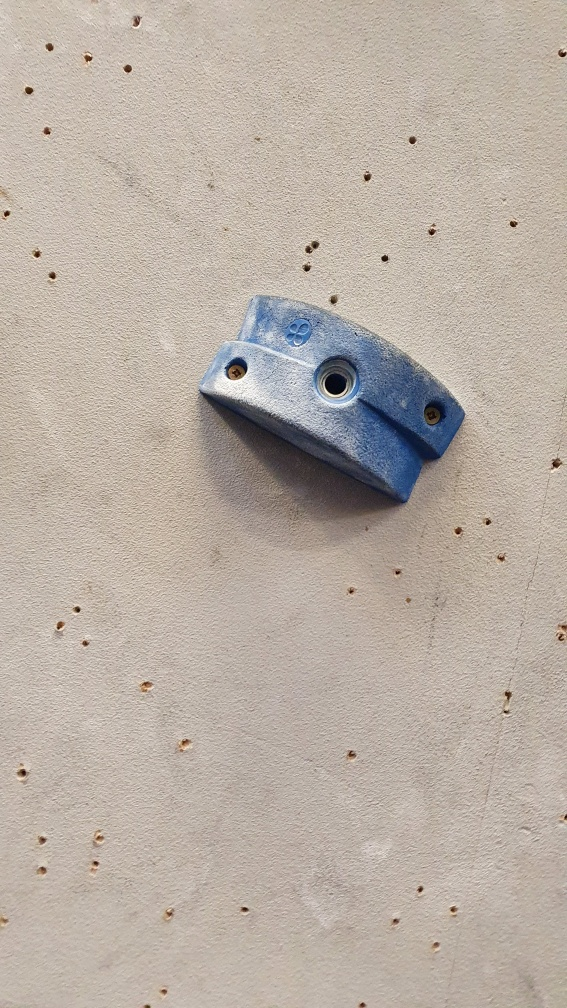Pinch: (199, 289, 471, 513)
